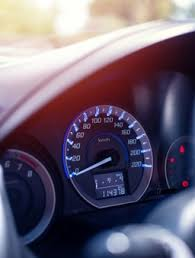Digital_Meter: (91, 186, 127, 197)
